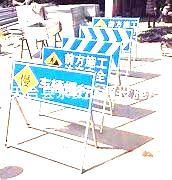sign: (12, 68, 94, 106), (42, 48, 109, 67), (92, 17, 138, 26)
